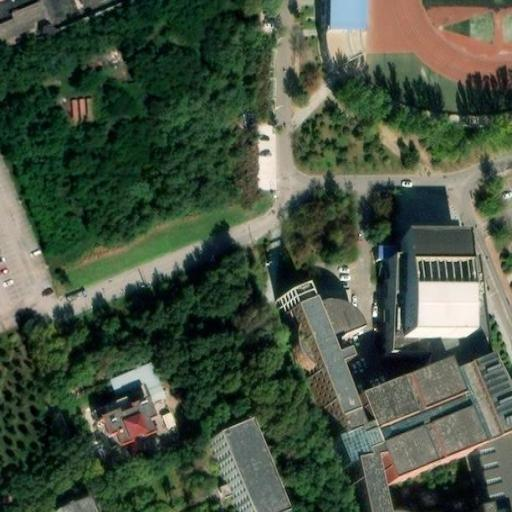building: (279, 318, 370, 493), (362, 376, 512, 478), (366, 439, 478, 512), (348, 393, 454, 464), (205, 435, 274, 512), (97, 410, 157, 469), (455, 263, 482, 376), (392, 330, 455, 376), (309, 325, 360, 373), (392, 295, 455, 331), (0, 19, 52, 62), (104, 355, 159, 395), (392, 263, 455, 296), (251, 115, 278, 188), (473, 468, 512, 512), (378, 274, 392, 376), (324, 0, 355, 35), (53, 489, 97, 512), (67, 93, 92, 123)
